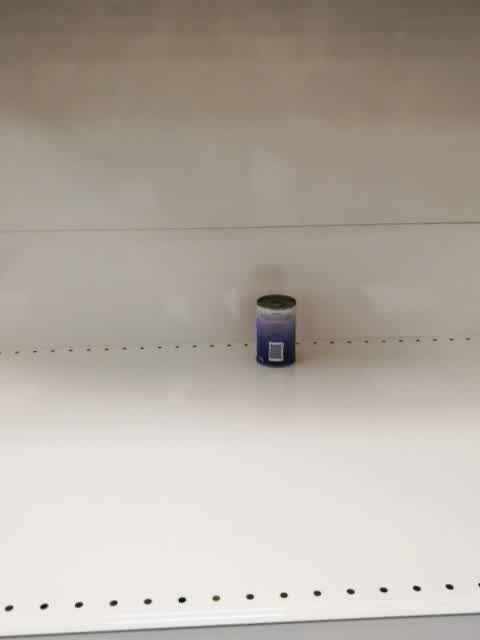sardine: (254, 292, 299, 369)
